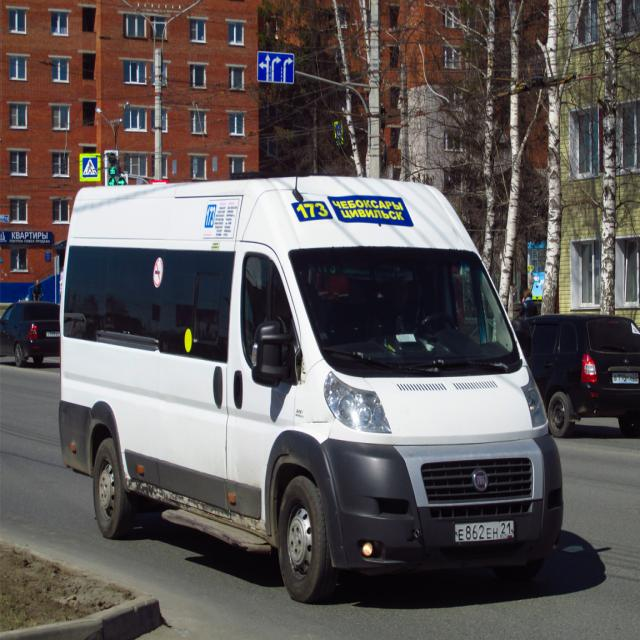number-of-bus: (295, 199, 331, 227)
